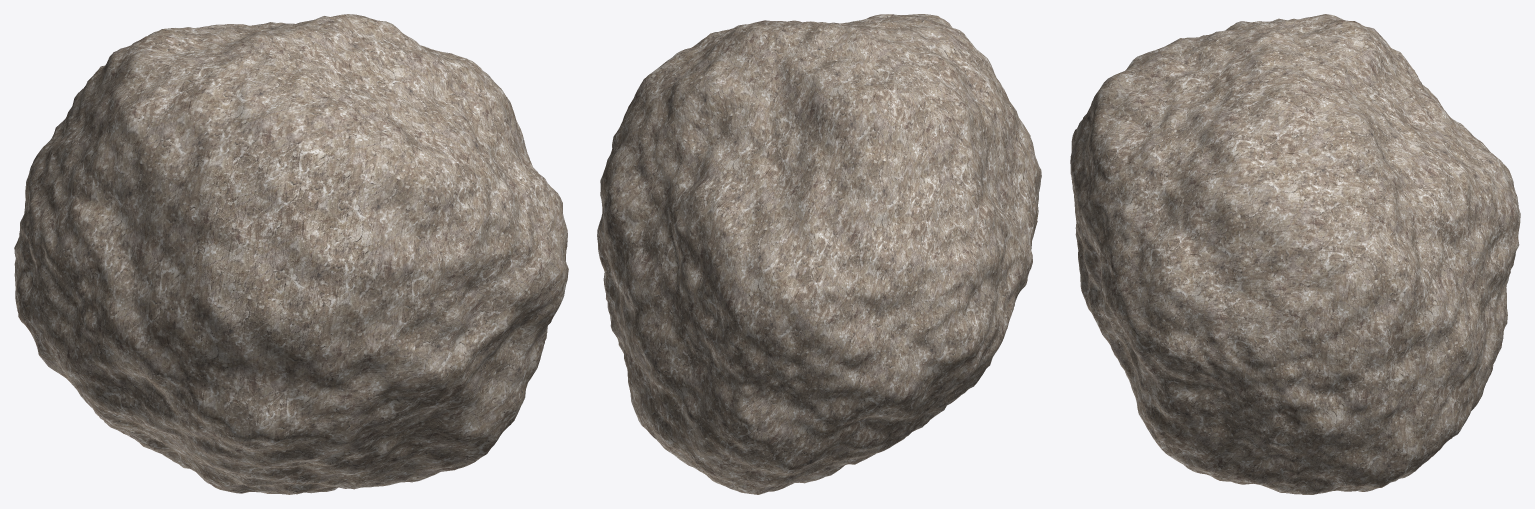
Rendered from ScaledRock.fbx.
3 renders of one model, left to right at view 1: azimuth 30°, elevation 25°; view 2: azimuth 150°, elevation 25°; view 3: azimuth 270°, elevation 25°, orthographic. The views are drawn at different scales.
Visible parts, largest first — view 1: Rock; view 2: Rock; view 3: Rock.
Boxes of the visible parts, bbox=[...] form: Rock: bbox=[14, 14, 568, 494]; Rock: bbox=[597, 14, 1041, 494]; Rock: bbox=[1070, 14, 1520, 494].
Bounding box in the file's own units: 294 × 297 × 292.
